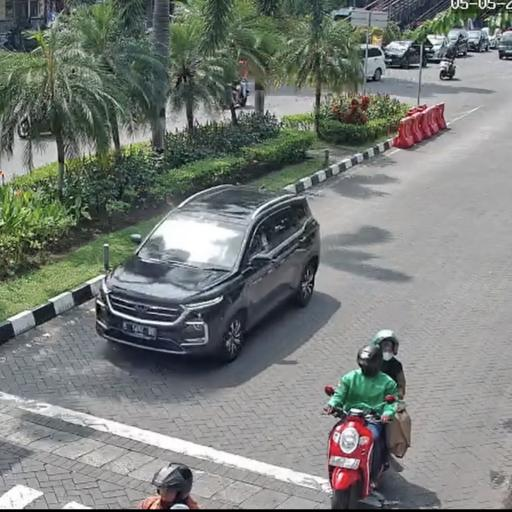mobil: (96, 179, 318, 364)
motor: (320, 382, 415, 507)
